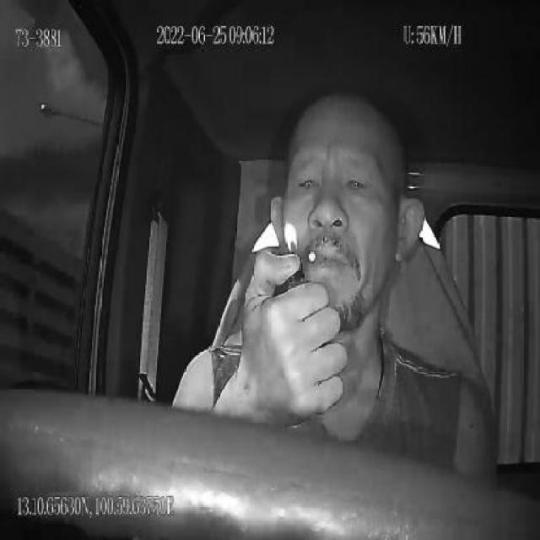smoking: (306, 251, 325, 265)
